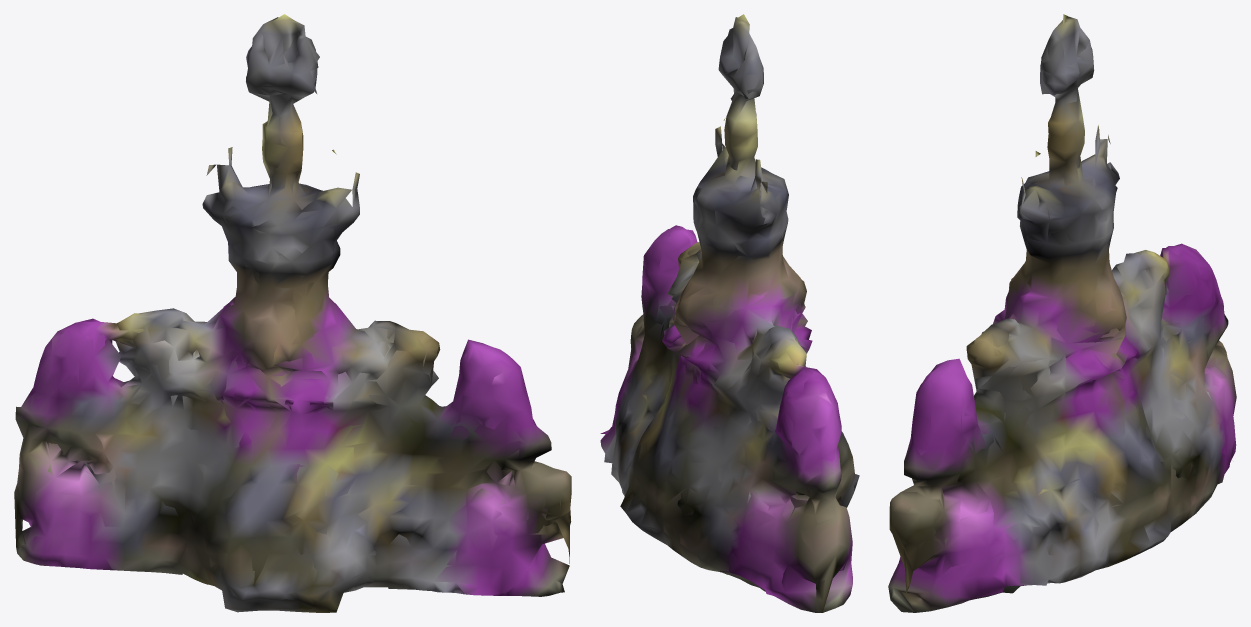
File: psychic_amplifier.glb
3 renders of one model, left to right at view 1: azimuth 30°, elevation 25°; view 2: azimuth 150°, elevation 25°; view 3: azimuth 270°, elevation 25°, orthographic. The views are drawn at different scales.
Visible parts, largest first — view 1: psychic_amplifier; view 2: psychic_amplifier; view 3: psychic_amplifier.
Boxes of the visible parts, x1,y1,x2,y2 form: psychic_amplifier: (14,14,571,612); psychic_amplifier: (600,14,859,612); psychic_amplifier: (888,14,1236,612).
Size of the model in its own units: 1.19 by 1.63 by 1.
